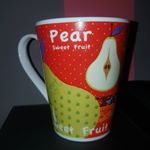cups: (15, 13, 132, 144)
